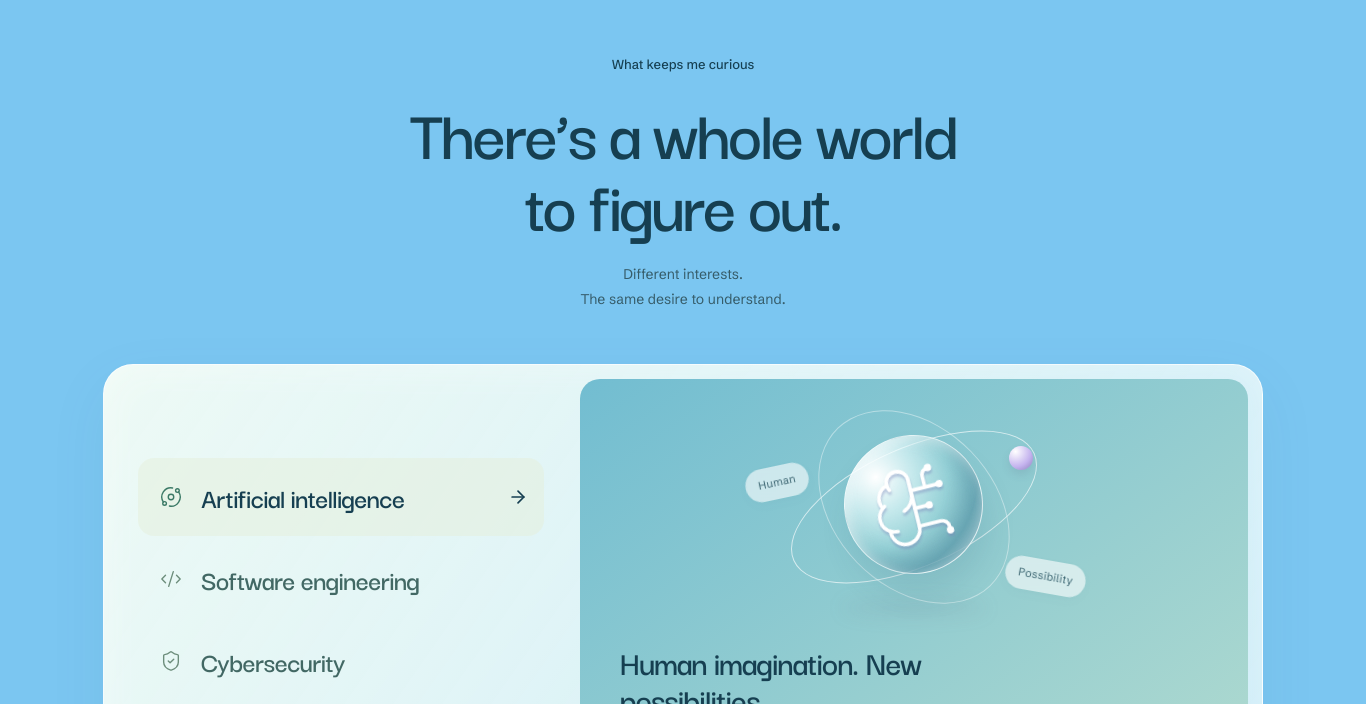
Scenario: interest tabs › uses Home and End to select and focus the first and last tabs
Step 1. Click the tab "Software engineering" → (341, 579), box [138,540,544,618]
(page scrolled)
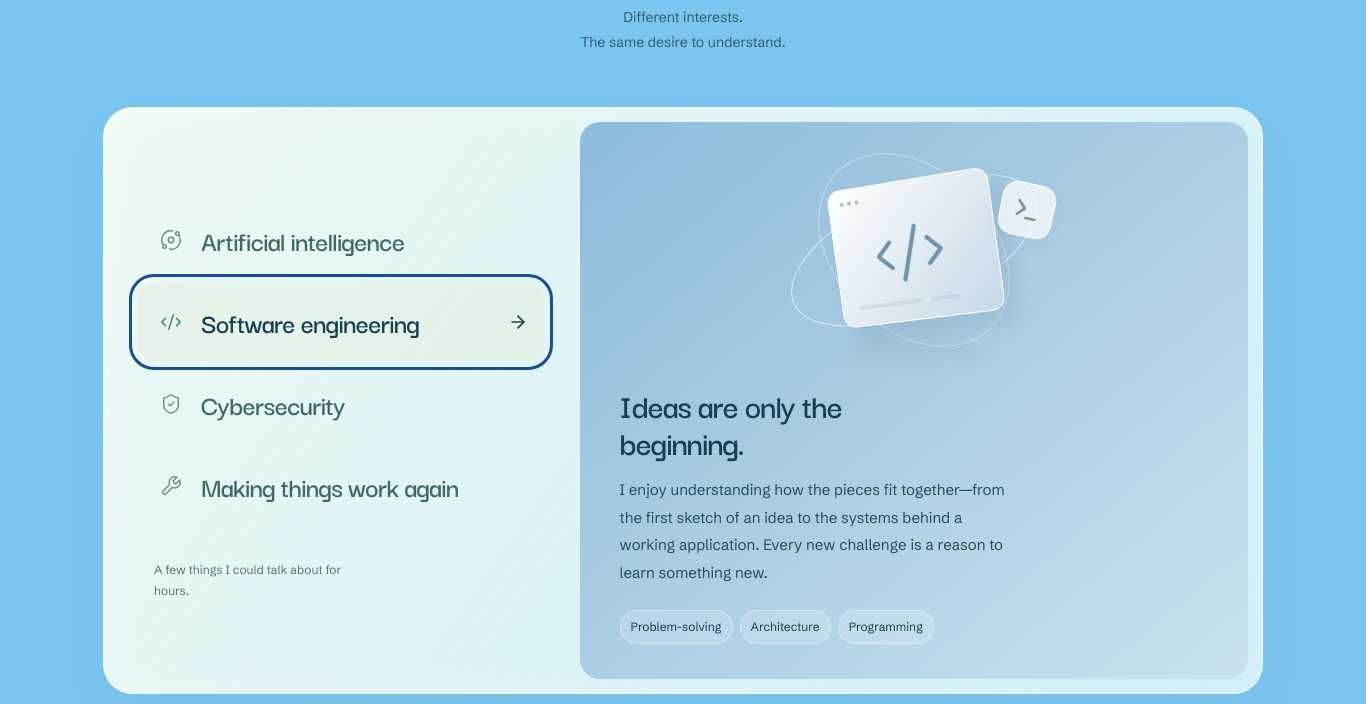
Expected: the number of panels is 1, [580,122,1248,679]
Step 2. Press End
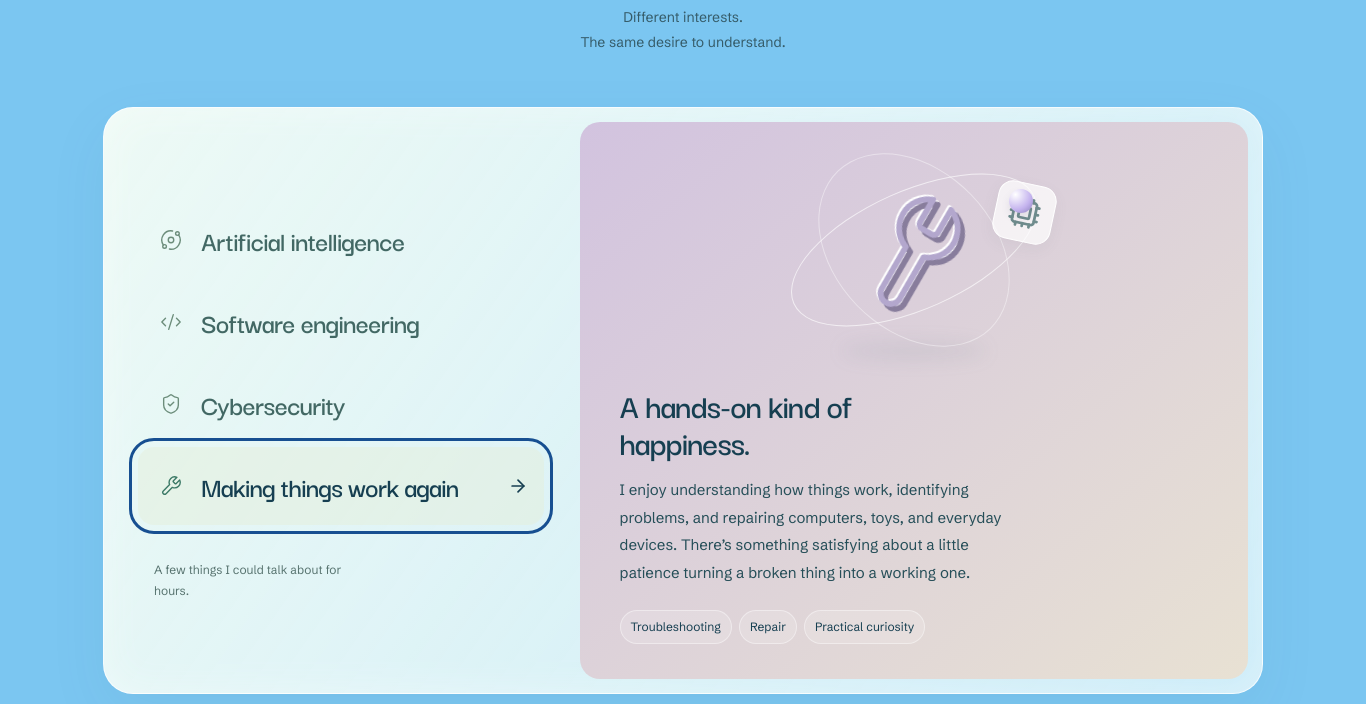
Expected: the number of panels is 1, [580,122,1248,679]
Step 3. Press Home
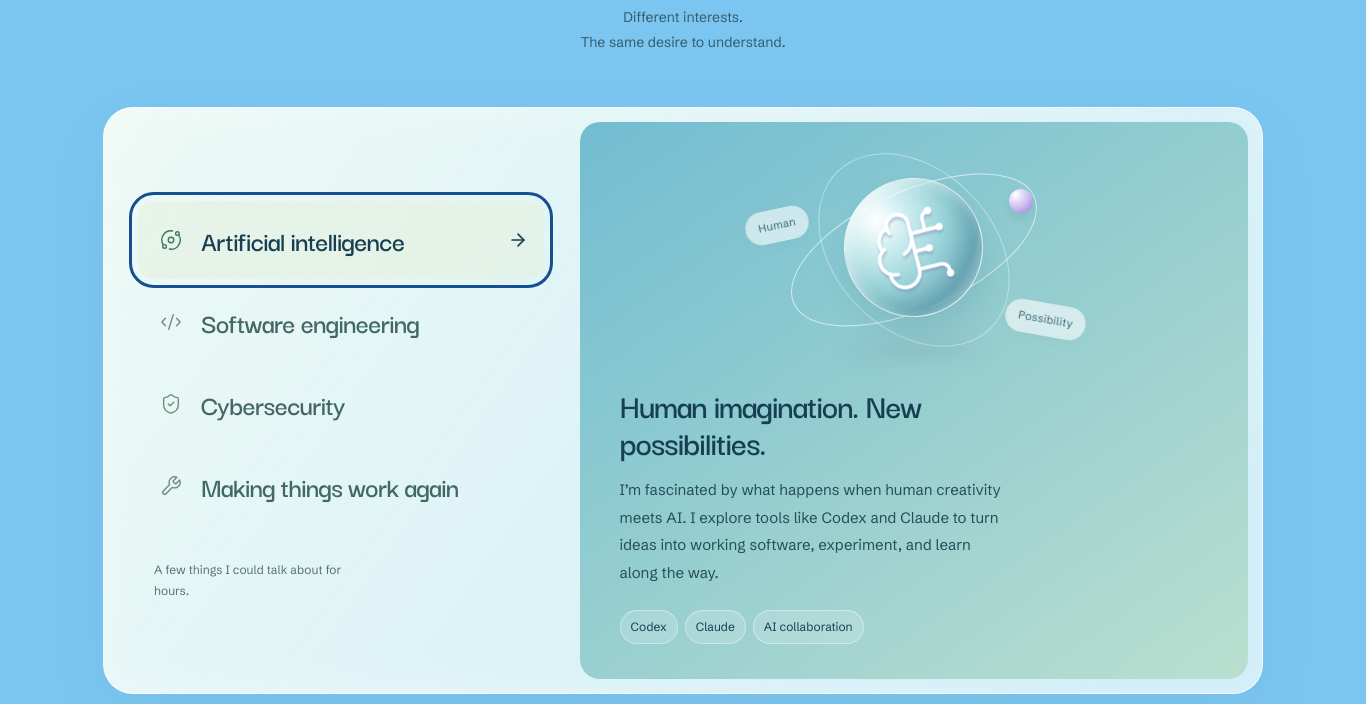
Expected: the number of panels is 1, [580,122,1248,679]
